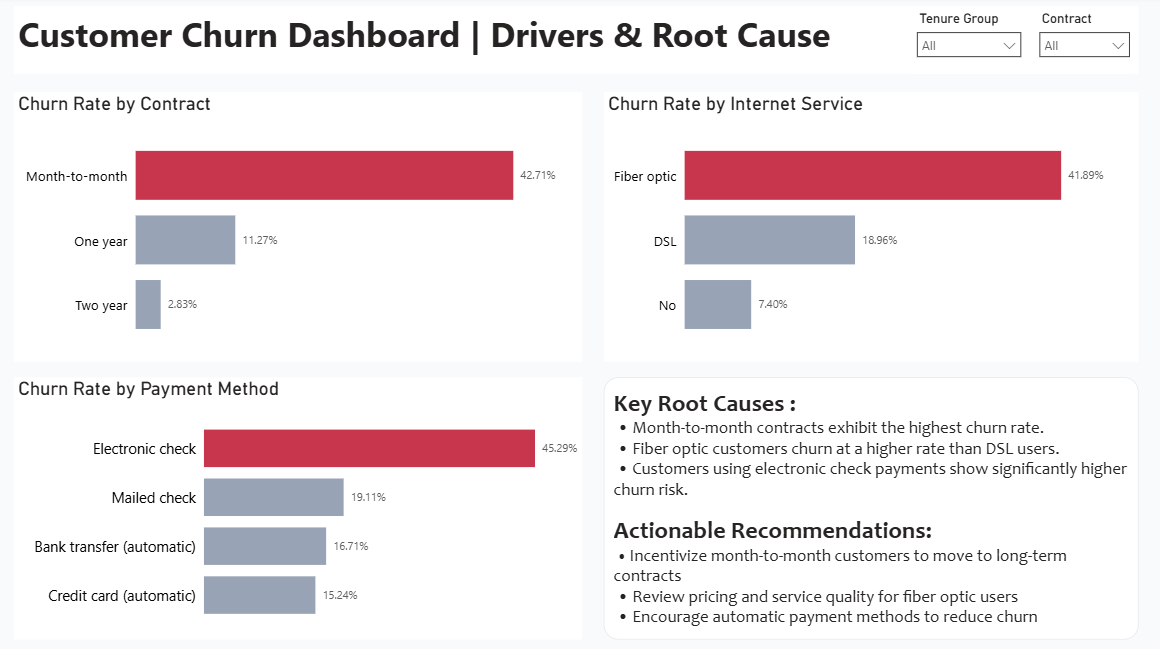

This screenshot's page, from the dashboard's own definition file:
{"tool":"powerbi","page":{"name":"Churn Drivers","canvas":[1280,720],"ordinal":1},"visuals":[{"type":"barChart","fields":{"Category":["WA_Fn-UseC_-Telco-Customer-Churn.Contract"],"Y":["WA_Fn-UseC_-Telco-Customer-Churn.Churn Rate"]},"box":[20.6,105.7,624.4,296.4],"z":0},{"type":"barChart","title":"Churn Rate by Payment Method","fields":{"Category":["WA_Fn-UseC_-Telco-Customer-Churn.PaymentMethod"],"Y":["WA_Fn-UseC_-Telco-Customer-Churn.Churn Rate"]},"box":[20.6,418.5,624.4,288.2],"z":1000},{"type":"barChart","title":"Churn Rate by Internet Service","fields":{"Y":["WA_Fn-UseC_-Telco-Customer-Churn.Churn Rate"],"Category":["WA_Fn-UseC_-Telco-Customer-Churn.InternetService"]},"box":[668.3,105.7,587.3,296.4],"z":2000},{"type":"textbox","box":[668.3,418.5,587.3,288.2],"z":3000},{"type":"textbox","box":[20.6,11,1226,74],"z":4000},{"type":"slicer","fields":{"Values":["WA_Fn-UseC_-Telco-Customer-Churn.Tenure Group"]},"box":[1001.7,11,134.5,74.1],"z":5000},{"type":"slicer","fields":{"Values":["WA_Fn-UseC_-Telco-Customer-Churn.Contract"]},"box":[1136.2,11,119.4,74.1],"z":6000}]}

Visuals, with their boxes in screenshot pixels (x1, y1, x2, y2), scaled from the page's 1280x720 canvas onto the 1160x649 screenshot:
barChart - WA_Fn-UseC_-Telco-Customer-Churn.Contract x WA_Fn-UseC_-Telco-Customer-Churn.Churn Rate: bbox(19, 95, 585, 362)
"Churn Rate by Payment Method" barChart: bbox(19, 377, 585, 637)
"Churn Rate by Internet Service" barChart: bbox(606, 95, 1138, 362)
textbox: bbox(606, 377, 1138, 637)
textbox: bbox(19, 10, 1130, 77)
slicer - WA_Fn-UseC_-Telco-Customer-Churn.Tenure Group: bbox(908, 10, 1030, 77)
slicer - WA_Fn-UseC_-Telco-Customer-Churn.Contract: bbox(1030, 10, 1138, 77)
